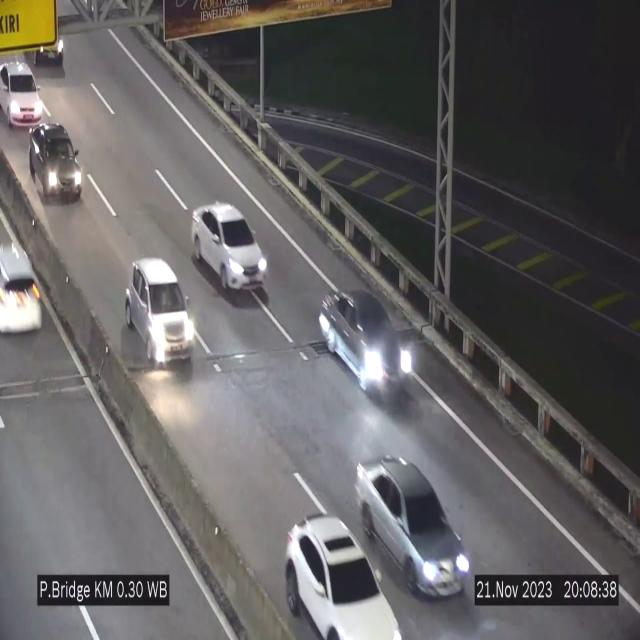Car: (356, 459, 471, 595), (286, 514, 400, 639), (322, 285, 414, 415), (125, 260, 195, 367), (192, 202, 266, 296), (0, 226, 52, 344), (27, 123, 89, 205), (0, 59, 46, 134)
